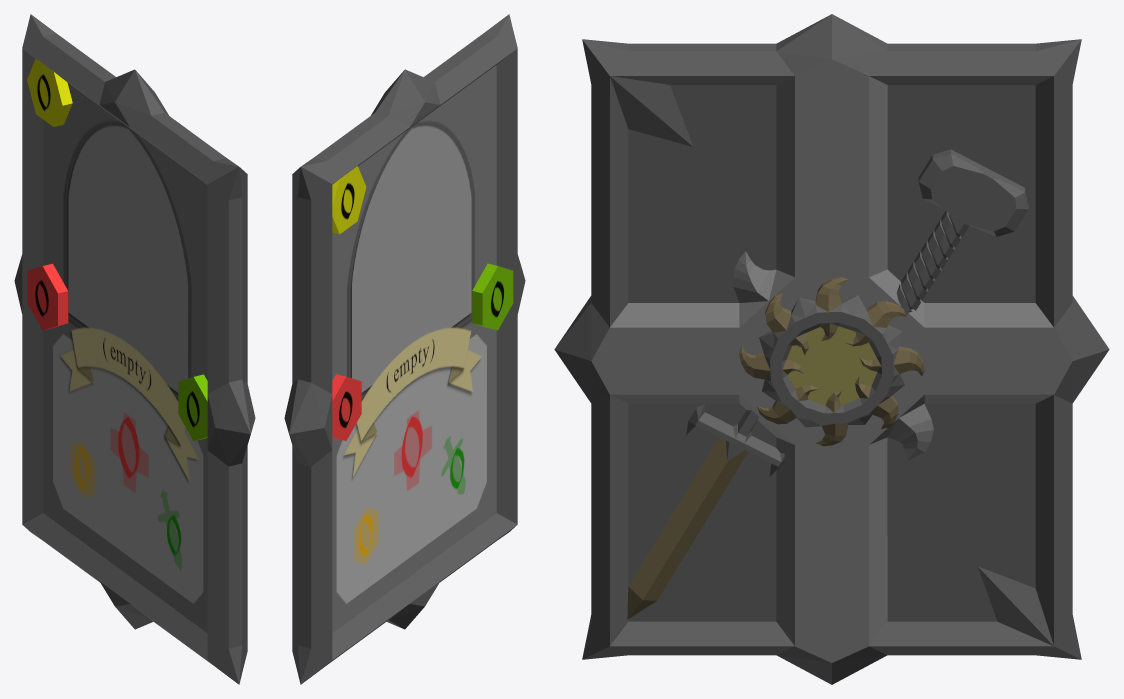
File: card_1.glb
The picture shows the model from 3 angles, left to right: view 1: azimuth 30°, elevation 25°; view 2: azimuth 150°, elevation 25°; view 3: azimuth 270°, elevation 25°; orthographic projection. The views are drawn at different scales.
Parts seen in each view (by area): view 1: base; view 2: base; view 3: base.
Boxes of the visible parts, x1,y1,x2,y2 form: base: [14, 14, 255, 684]; base: [284, 14, 525, 684]; base: [554, 14, 1109, 684].
Size of the model in its own units: 0.5045 by 5.21 by 3.91.
Materials: 13 (4 with a texture image).
